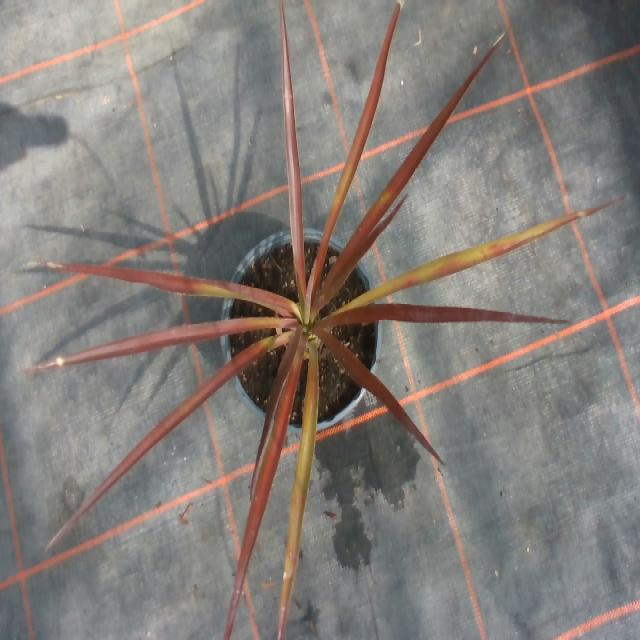Yucca-aloifolia: (313, 35, 503, 309), (48, 336, 286, 544), (337, 199, 619, 317), (224, 331, 304, 639), (318, 4, 398, 261), (315, 325, 443, 463), (25, 317, 294, 371), (47, 263, 295, 315), (277, 344, 318, 639), (280, 0, 305, 299), (251, 333, 294, 496), (316, 304, 566, 328), (343, 196, 406, 281), (311, 265, 320, 292)
